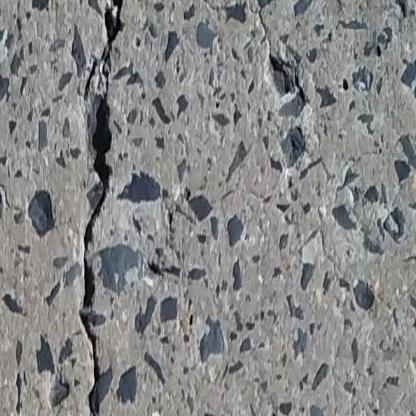Cracks: (78, 0, 129, 416)
